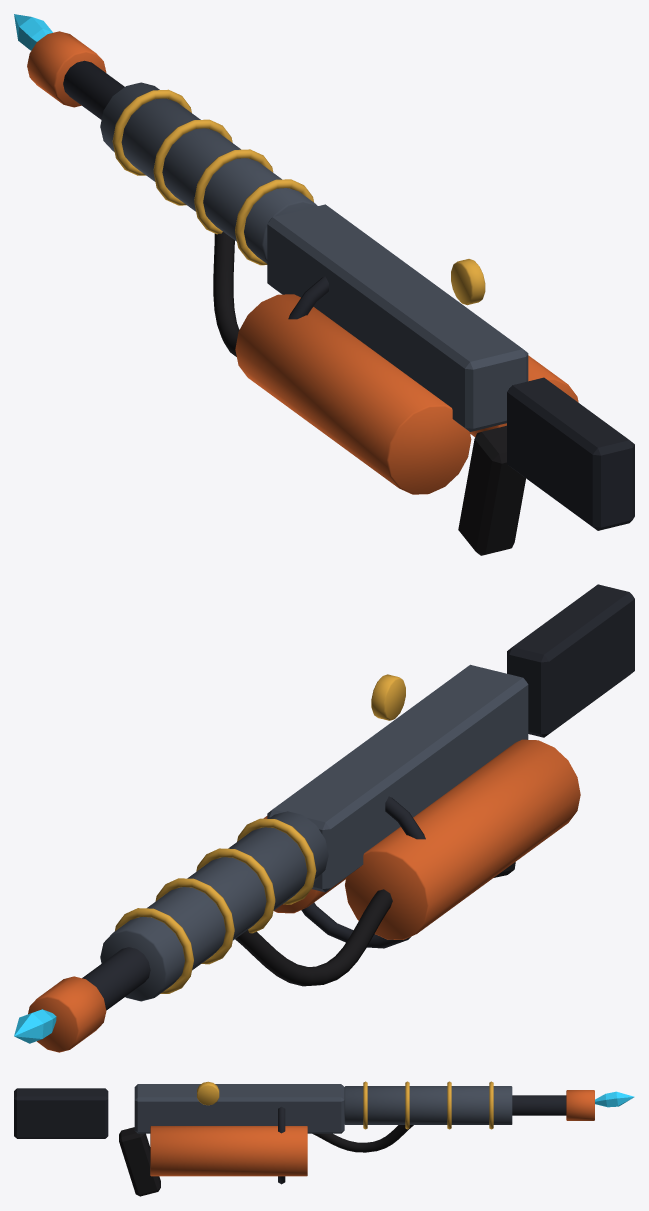
File: gun_flamethrower.obj
3 views of the same model, one above another, from view 1: azimuth 30°, elevation 25°; view 2: azimuth 150°, elevation 25°; view 3: azimuth 270°, elevation 25° (orthographic). The views are drawn at different scales.
Visible parts, largest first — view 1: Chassis, TankL, RearBrace, HeatShroud, Grip, NozzleBell, FuelHose, NozzlePipe, ShroudRing_0, ShroudRing_2, ShroudRing_3, ShroudRing_1 (+4 smaller); view 2: Chassis, TankL, HeatShroud, RearBrace, FuelHose, NozzleBell, NozzlePipe, TankBandF, ShroudRing_2, ShroudRing_0, ShroudRing_3, ShroudRing_1 (+2 smaller); view 3: Chassis, TankR, HeatShroud, RearBrace, Grip, NozzlePipe, FuelHose, NozzleBell, Gauge, PilotFlame, TankBandF, ShroudRing_0 (+3 smaller).
Part boxes in pixels (left/top/right/bottom): Chassis: left=267, top=204, right=528, bottom=431; TankL: left=235, top=294, right=471, bottom=494; RearBrace: left=507, top=377, right=634, bottom=530; HeatShroud: left=100, top=82, right=317, bottom=263; Grip: left=458, top=425, right=525, bottom=555; NozzleBell: left=27, top=31, right=106, bottom=107; FuelHose: left=213, top=232, right=239, bottom=356; NozzlePipe: left=63, top=60, right=124, bottom=119; ShroudRing_0: left=235, top=179, right=313, bottom=265; ShroudRing_2: left=153, top=119, right=232, bottom=205; ShroudRing_3: left=112, top=89, right=191, bottom=175; ShroudRing_1: left=194, top=149, right=273, bottom=234; Chassis: left=267, top=664, right=528, bottom=892; TankL: left=345, top=739, right=580, bottom=939; HeatShroud: left=100, top=811, right=328, bottom=1001; RearBrace: left=507, top=584, right=634, bottom=737; FuelHose: left=235, top=889, right=392, bottom=986; NozzleBell: left=28, top=976, right=106, bottom=1052; NozzlePipe: left=82, top=947, right=150, bottom=1010; TankBandF: left=301, top=796, right=425, bottom=948; ShroudRing_2: left=155, top=878, right=234, bottom=964; ShroudRing_0: left=237, top=818, right=316, bottom=904; ShroudRing_3: left=115, top=908, right=193, bottom=993; ShroudRing_1: left=196, top=848, right=275, bottom=933; Chassis: left=134, top=1084, right=344, bottom=1133; TankR: left=150, top=1126, right=307, bottom=1176; HeatShroud: left=344, top=1086, right=512, bottom=1124; RearBrace: left=14, top=1088, right=108, bottom=1138; Grip: left=119, top=1127, right=160, bottom=1196; NozzlePipe: left=512, top=1095, right=566, bottom=1115; FuelHose: left=312, top=1125, right=413, bottom=1152; NozzleBell: left=566, top=1090, right=594, bottom=1120; Gauge: left=197, top=1081, right=219, bottom=1105; PilotFlame: left=595, top=1091, right=634, bottom=1107; TankBandF: left=278, top=1106, right=285, bottom=1184; ShroudRing_0: left=363, top=1081, right=367, bottom=1129.
Size of the model in its own units: 0.22 by 0.2524 by 1.18.
